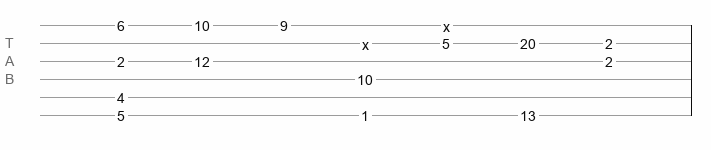1: (361, 108, 369, 118)
10: (194, 18, 210, 28), (357, 72, 373, 82)
12: (194, 54, 210, 64)
13: (520, 108, 536, 118)
2: (117, 54, 125, 64), (605, 54, 613, 64), (605, 36, 613, 46)
20: (520, 36, 536, 46)
4: (117, 90, 125, 100)
5: (117, 108, 125, 118), (442, 36, 450, 46)
6: (117, 18, 125, 28)
9: (280, 18, 288, 28)
x: (362, 37, 369, 45), (443, 19, 450, 27)
